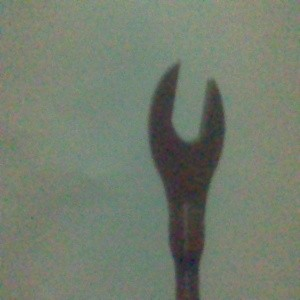spanner: (147, 60, 227, 300)
